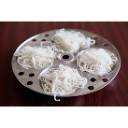idiyappam: (45, 65, 81, 96), (77, 47, 115, 75), (15, 45, 56, 69), (51, 29, 89, 53)
